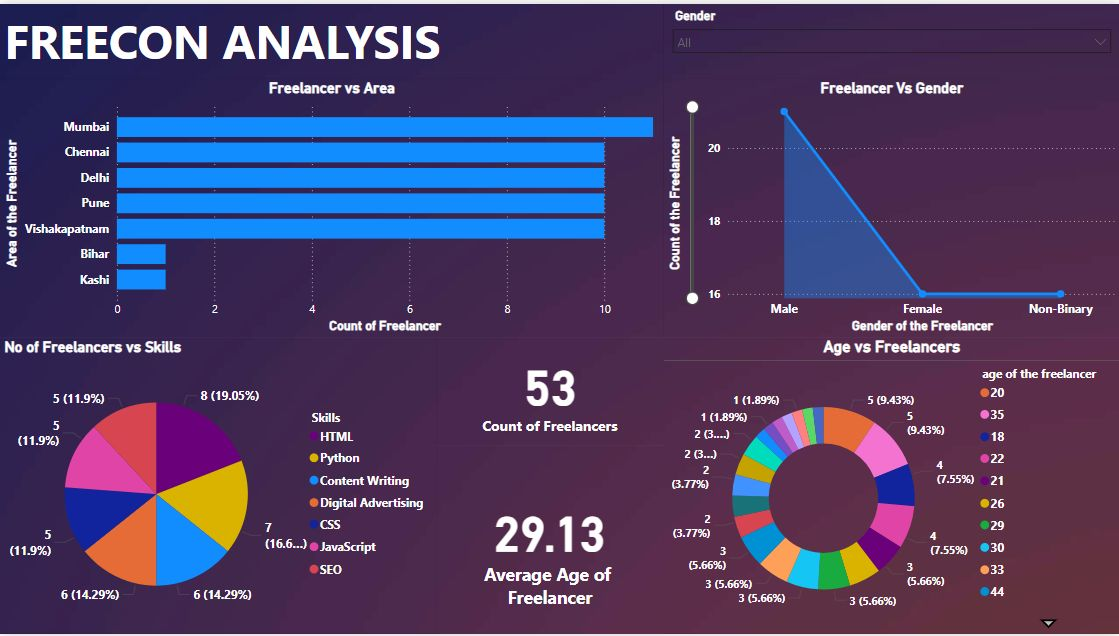

What the dashboard file says about the page in this screenshot:
{"tool":"powerbi","page":{"name":"Page 1","canvas":[1280,720],"ordinal":0},"visuals":[{"type":"textbox","box":[0,0,758.6,85.7],"z":0},{"type":"donutChart","title":"Age vs Freelancers","fields":{"Category":["indian_freelancers_data. age of the freelancer"],"Y":["indian_freelancers_data.name of the freelancer"]},"box":[758.6,381.4,521.4,338.6],"z":1000},{"type":"slicer","fields":{"Values":["indian_freelancers_data. gender of freelancer"]},"box":[758.6,0,521.4,85.7],"z":2000},{"type":"card","fields":{"Values":["indian_freelancers_data. age of the freelancer"]},"box":[498.6,504.3,260,215.7],"z":3000},{"type":"pieChart","title":"No of Freelancers vs Skills","fields":{"Category":["indian_freelancers_data. skill1"],"Y":["indian_freelancers_data.name of the freelancer"]},"box":[0,381.4,498.6,338.6],"z":3001},{"type":"card","fields":{"Values":["indian_freelancers_data.name of the freelancer"]},"box":[498.6,381.4,260,122.9],"z":3002},{"type":"clusteredBarChart","title":"Freelancer vs Area","fields":{"Category":["indian_freelancers_data. area of freelancer"],"Y":["indian_freelancers_data.name of the freelancer"]},"box":[0,85.7,758.6,295.7],"z":3003},{"type":"lineChart","title":"Freelancer Vs Gender","fields":{"Category":["indian_freelancers_data. gender of freelancer"],"Y":["indian_freelancers_data.name of the freelancer"]},"box":[758.6,85.7,521.4,295.7],"z":3004}]}

Visuals, with their boxes in screenshot pixels (x1, y1, x2, y2), scaled from the page's 1280x720 canvas onto the 1119x636 screenshot:
textbox: x1=0, y1=0, x2=663, y2=76
"Age vs Freelancers" donutChart: x1=663, y1=337, x2=1118, y2=635
slicer - indian_freelancers_data. gender of freelancer: x1=663, y1=0, x2=1118, y2=76
card - indian_freelancers_data. age of the freelancer: x1=436, y1=445, x2=663, y2=635
"No of Freelancers vs Skills" pieChart: x1=0, y1=337, x2=436, y2=635
card - indian_freelancers_data.name of the freelancer: x1=436, y1=337, x2=663, y2=445
"Freelancer vs Area" clusteredBarChart: x1=0, y1=76, x2=663, y2=337
"Freelancer Vs Gender" lineChart: x1=663, y1=76, x2=1118, y2=337
